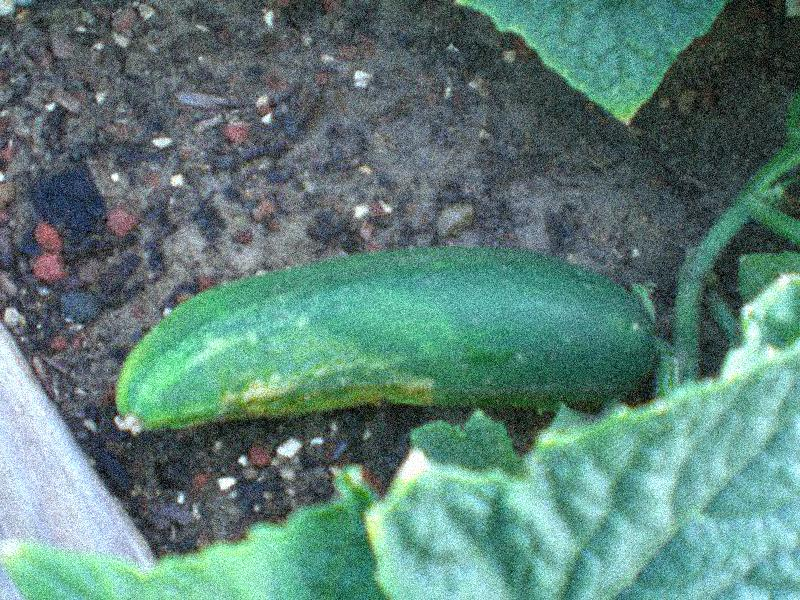Cucumber: (114, 248, 653, 434)
